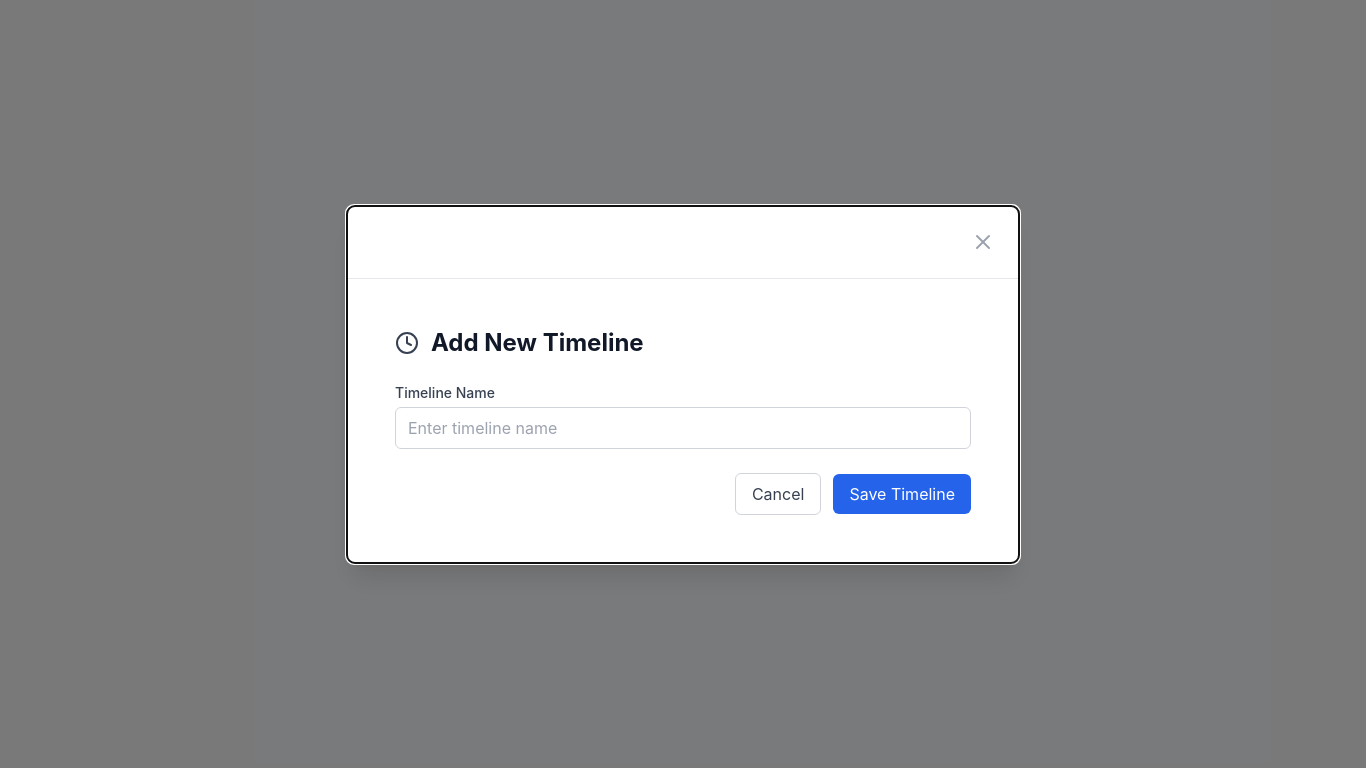
it: TimelineModal › Validation › shows error for duplicate timeline name
Type "Main Timeline" into the field labelled "Timeline Name" at {"x": 683, "y": 428}, box x1=395 y1=406 x2=971 y2=448
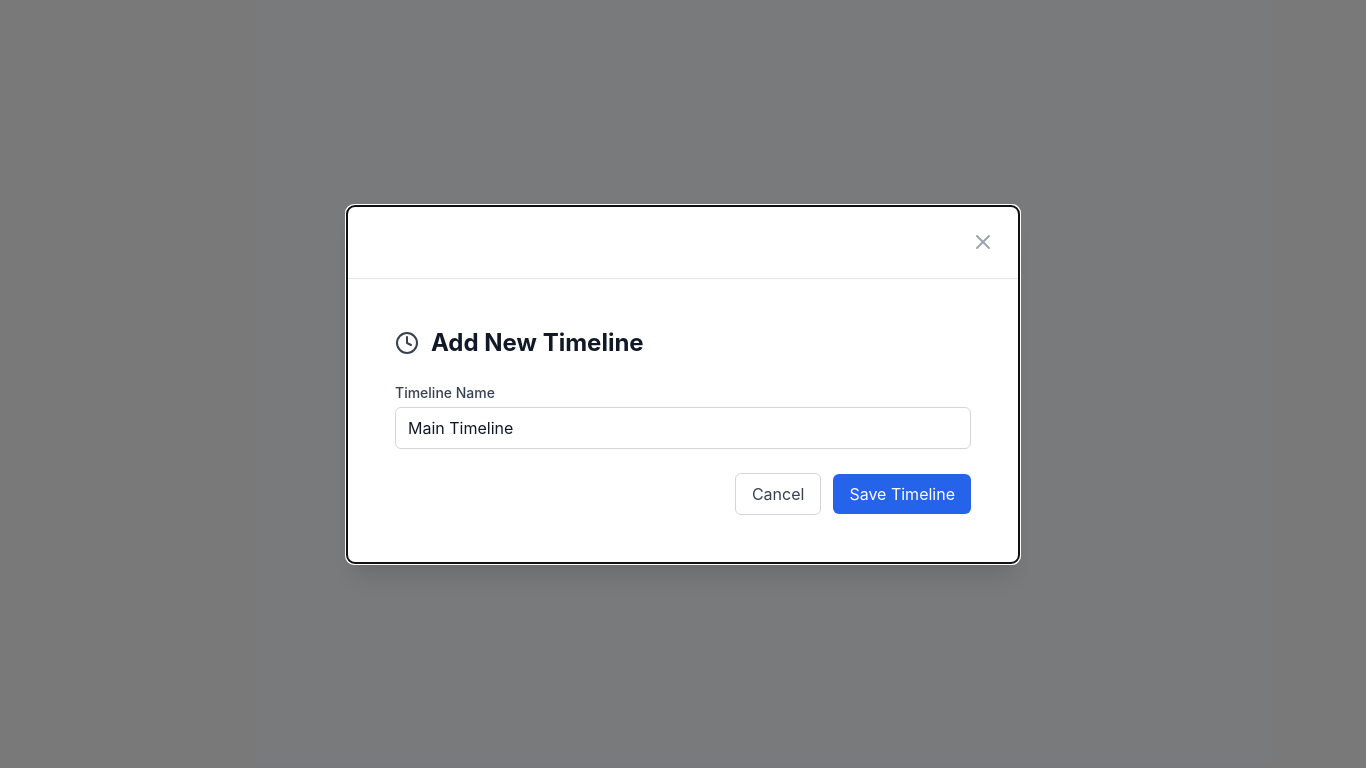
Click the button "Save Timeline" at {"x": 902, "y": 494}, box x1=833 y1=474 x2=971 y2=514
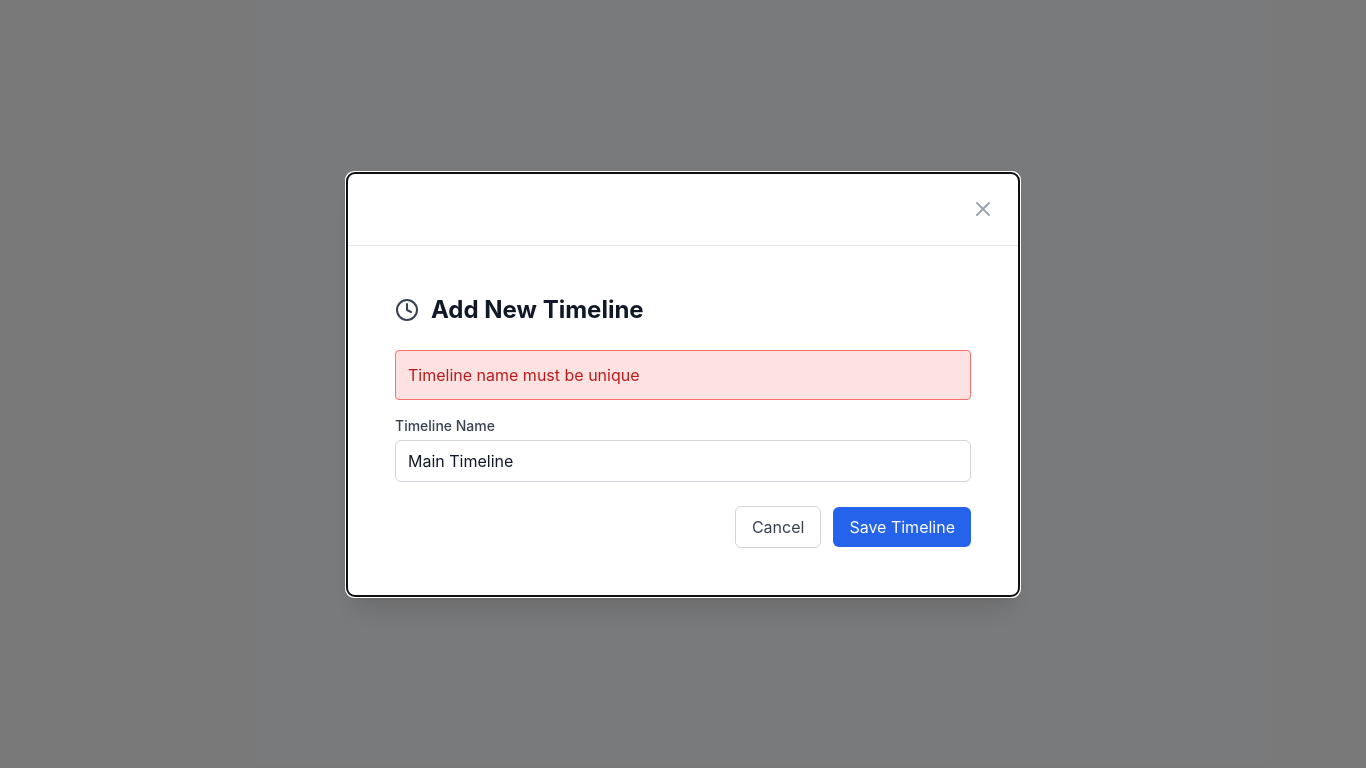
Now the message "Timeline name must be unique" is shown, box x1=395 y1=350 x2=971 y2=400
